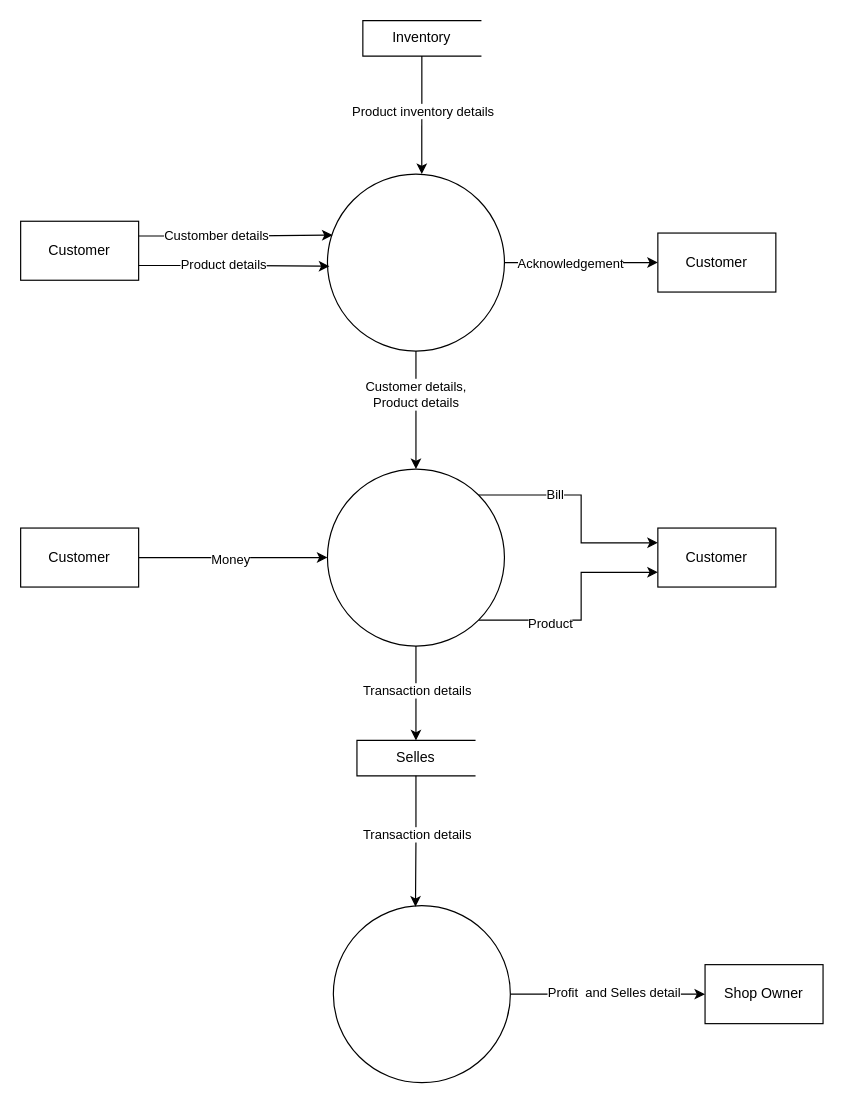
Some shapes in this 844 by 1103 pixel diagram are drawn without their labels. Here are the shapes that lost their labels. From the top down, the box of each, then its label:
(326, 173, 504, 351): 1 Check availability
(326, 468, 504, 646): 2 Generate Bill
(332, 904, 510, 1083): 3 Generate Report
